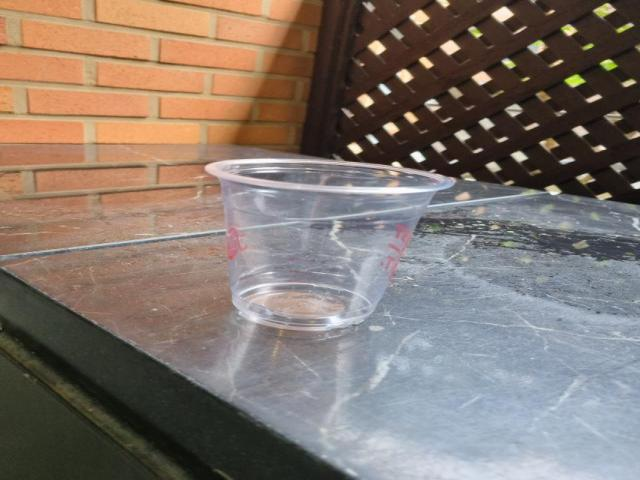cup: (196, 155, 462, 339)
